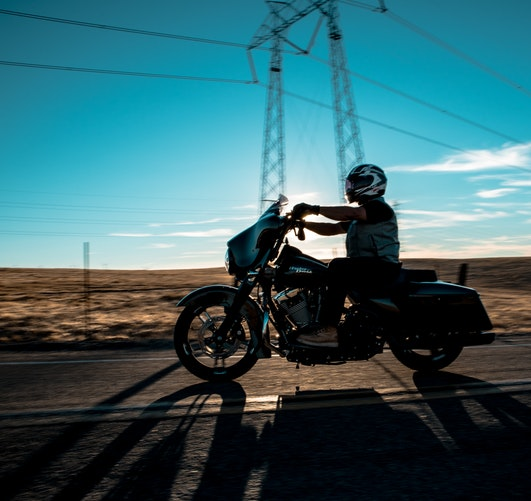helmet: (339, 156, 393, 209)
